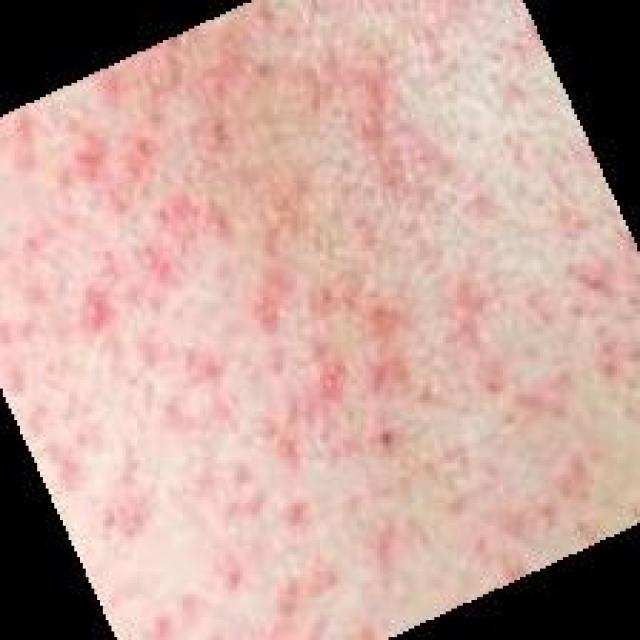others: (0, 42, 624, 612)
